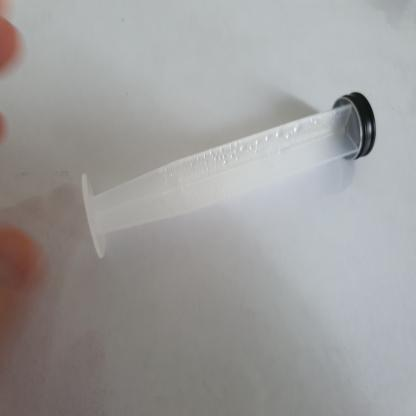wet: (90, 88, 364, 263)
